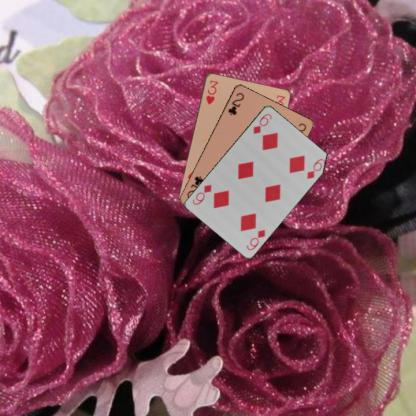2c: (226, 90, 246, 116)
3h: (203, 77, 219, 106)
6d: (250, 110, 273, 136), (244, 226, 266, 251)
